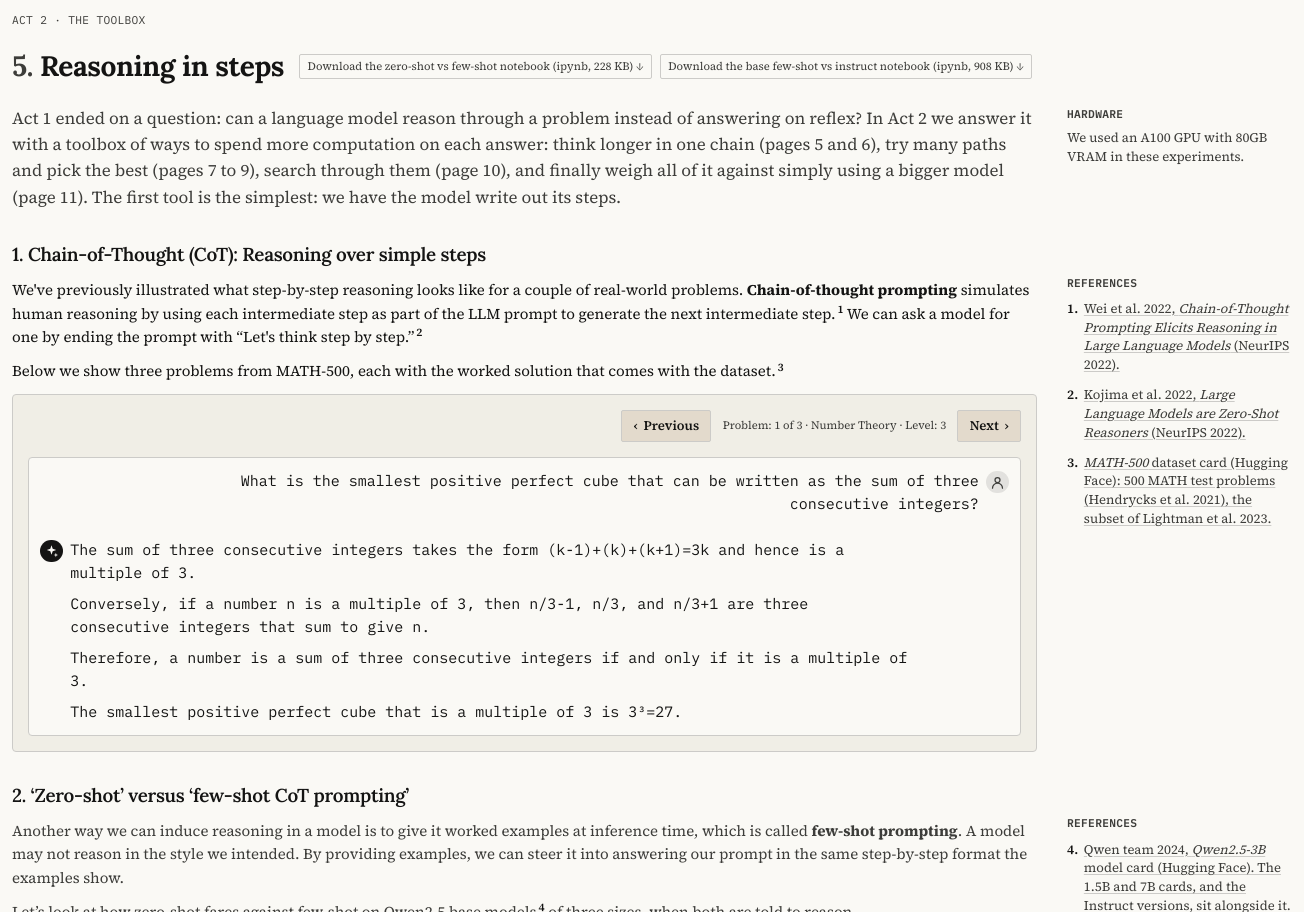
Scenario: Page 5, figure 1: worked solutions from MATH-500 › shows the question as the user's turn, then the worked solution one line per step
Check: the number of elements with test id "worked-question" is 1, box [137,469,979,516]
Check: the text with test id "worked-question" shows "What is the smallest positive perfect cube that can be written as the sum of three consecutive integers?", box [241,471,979,513]
Click the button with aria-label "Next problem" at (989, 426), box [957,410,1021,442]
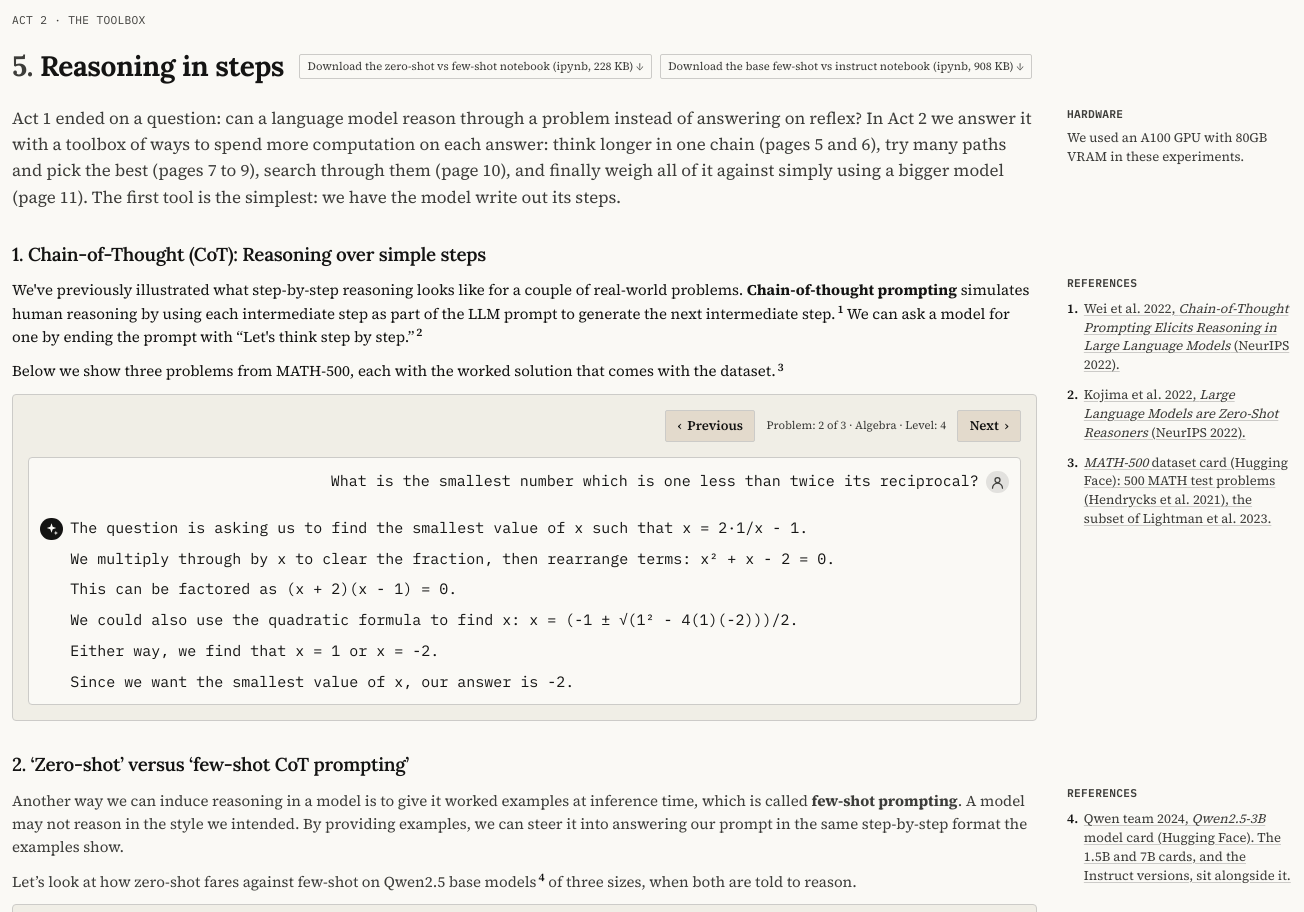
Check: the number of elements with test id "worked-question" is 1, box [331,469,979,492]
Check: the text with test id "worked-question" reads "What is the smallest number which is one less than twice its reciprocal?", box [331,471,979,490]
Check: the text "Since we want the smallest value of x, our answer is -2." is shown, box [70,672,574,691]
Click the button with aria-label "Next problem" at (989, 426), box [957,410,1021,442]
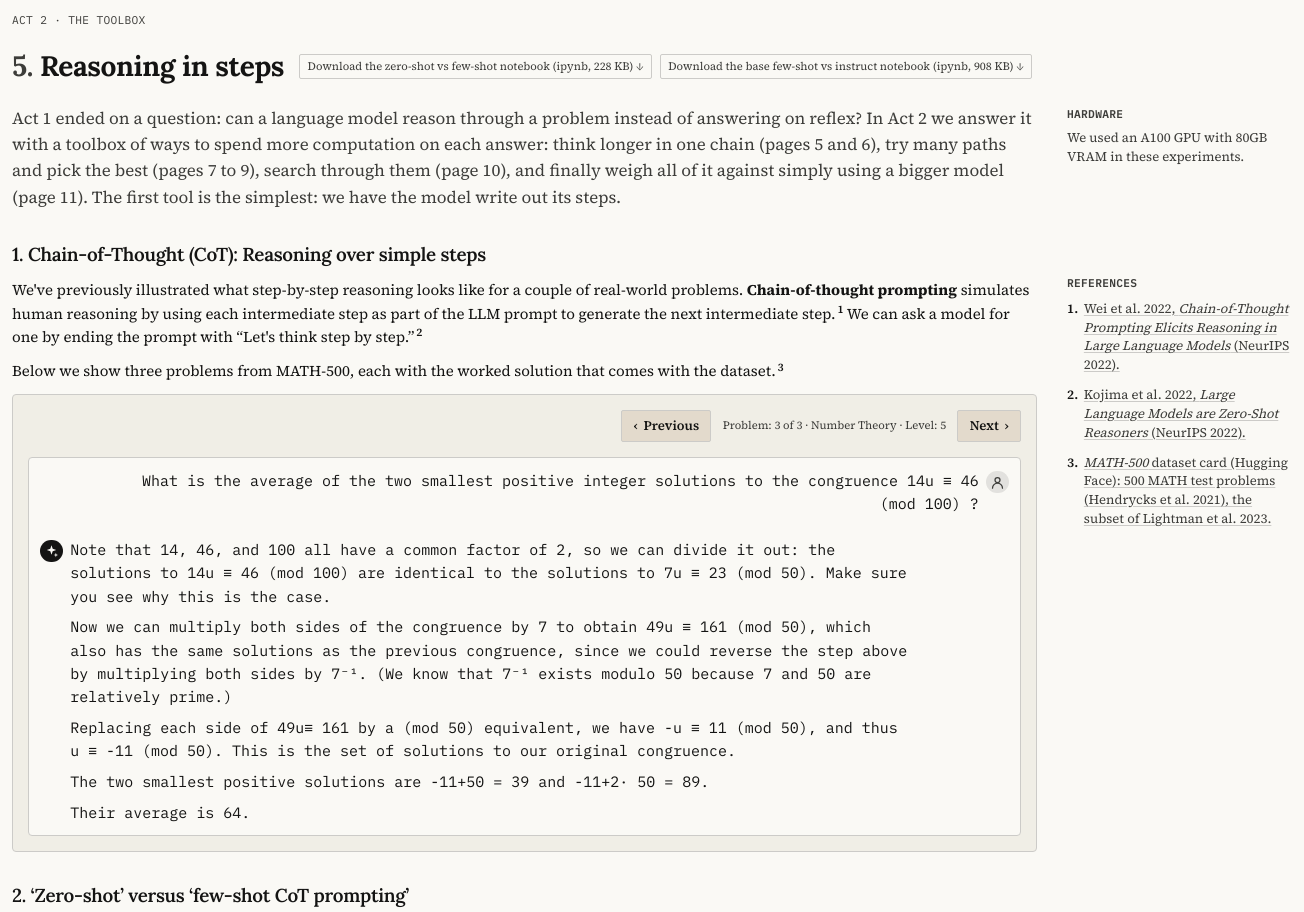
Check: the number of elements with test id "worked-question" is 1, box [137,469,979,516]
Check: the text "Their average is 64." is shown, box [70,802,250,822]
